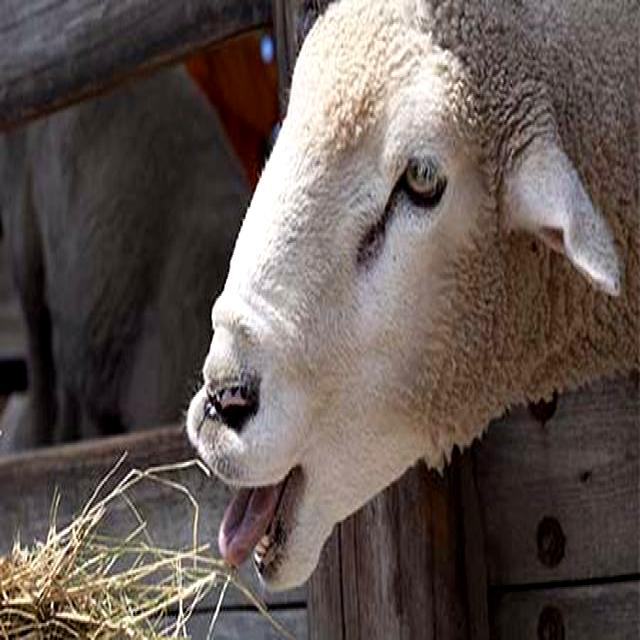sheep: (188, 3, 640, 589)
